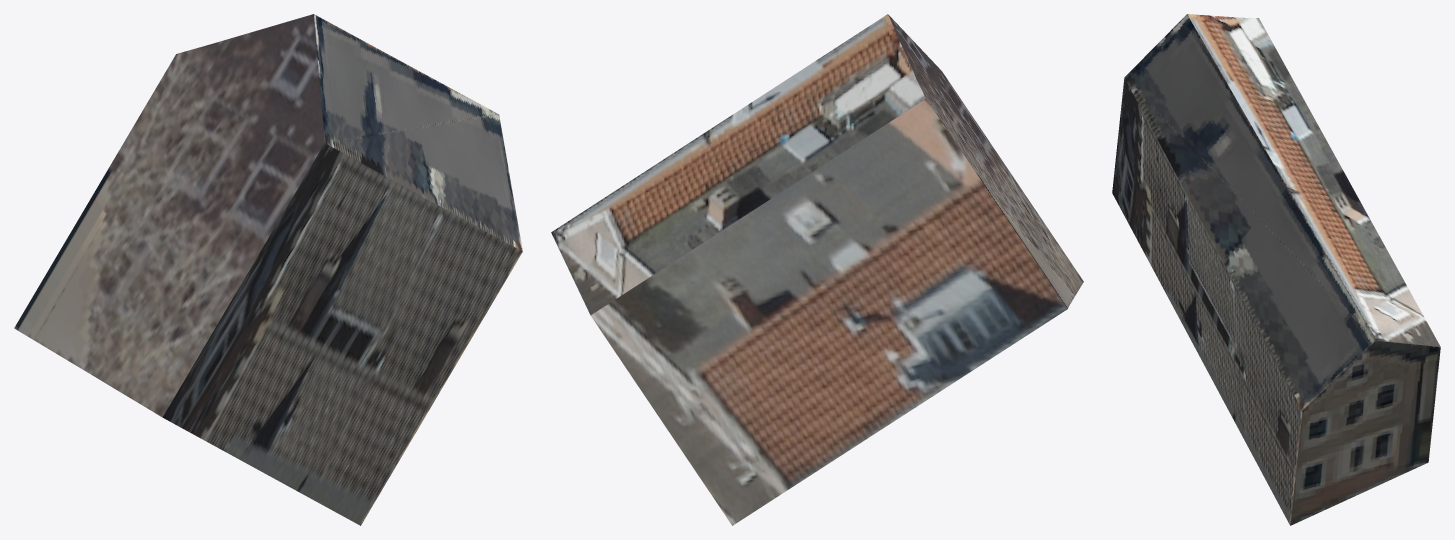
The picture shows the model from 3 angles, left to right: view 1: azimuth 30°, elevation 25°; view 2: azimuth 150°, elevation 25°; view 3: azimuth 270°, elevation 25°; orthographic projection. The views are drawn at different scales.
Visible parts, largest first — view 1: BAG_0599100000656923 (×3); view 2: BAG_0599100000656923 (×3); view 3: BAG_0599100000656923 (×3).
Part boxes in pixels (<box>): BAG_0599100000656923 (×3): <box>14,14,522,525</box>; BAG_0599100000656923 (×3): <box>551,14,1083,525</box>; BAG_0599100000656923 (×3): <box>1112,14,1440,525</box>.
Size of the model in its own units: 15.77 by 15.62 by 9.93.
3 materials, 3 textured.
